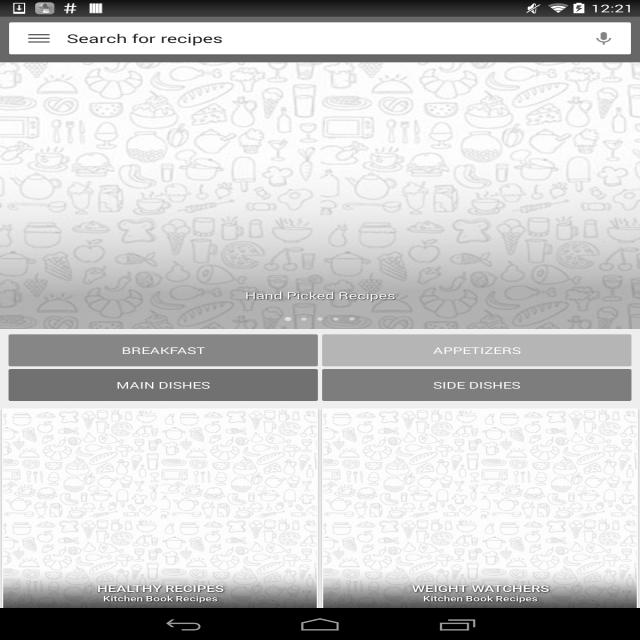Button: (7, 327, 318, 369), (332, 326, 628, 366), (328, 368, 624, 401)
EditText: (3, 18, 635, 58)
